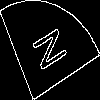N: (25, 25, 69, 77)
